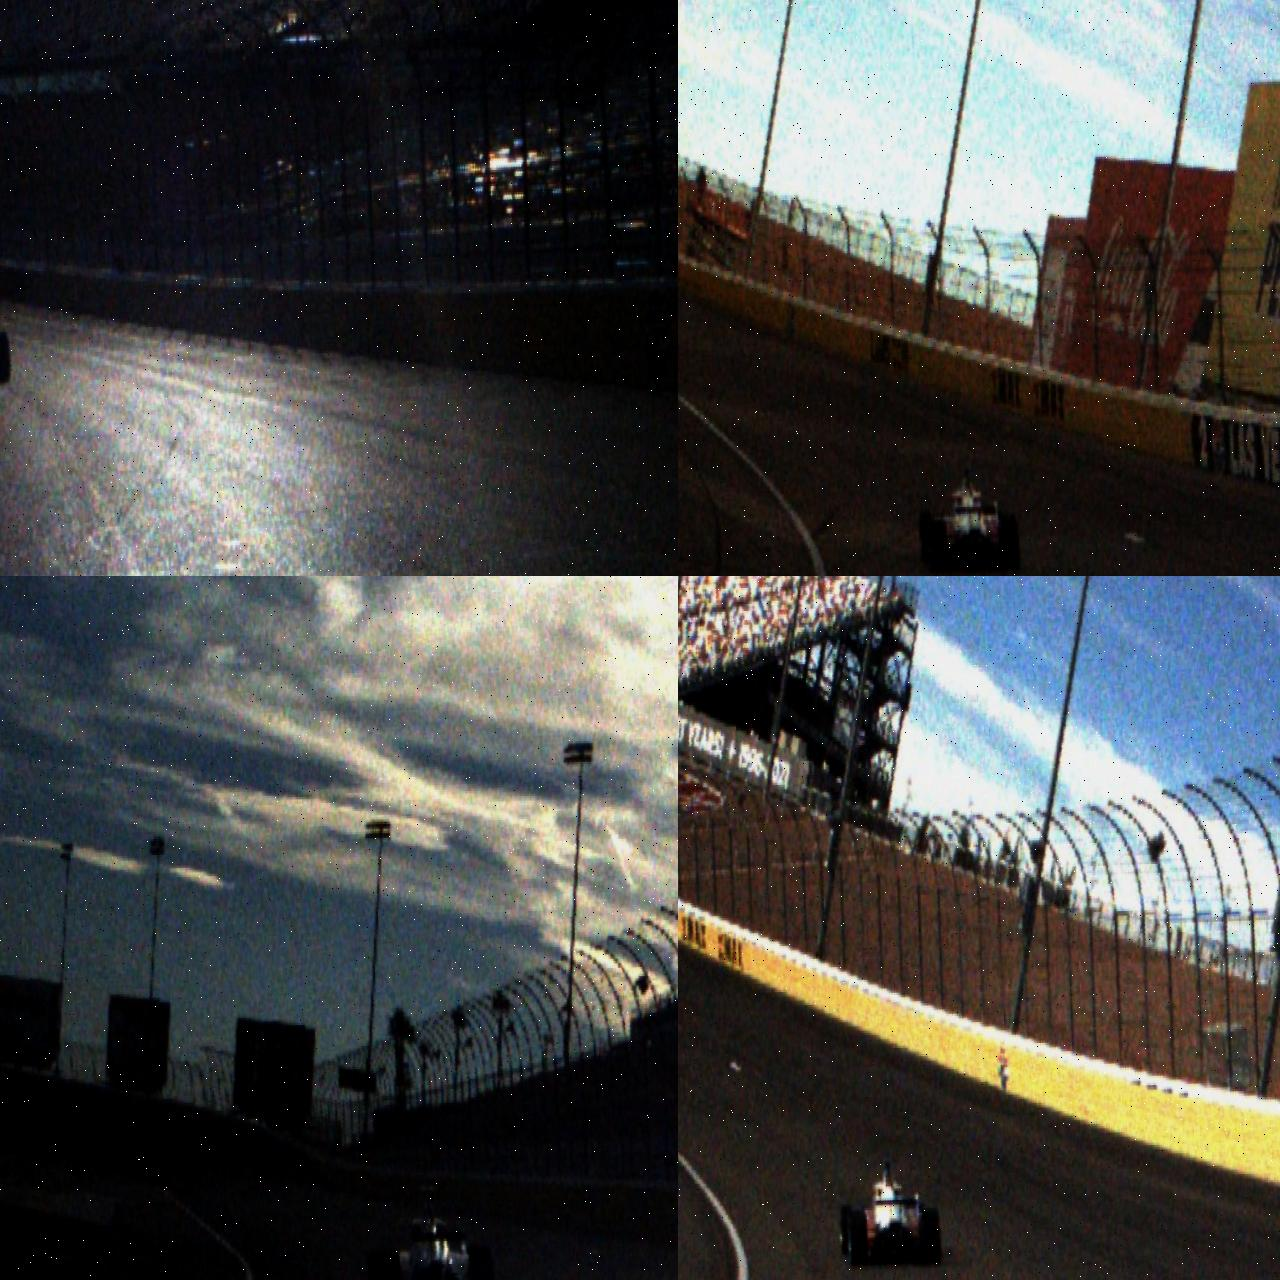AV: (363, 1182, 497, 1280), (837, 1155, 942, 1269), (915, 463, 1021, 574)
Wheel: (847, 1210, 869, 1268), (922, 1206, 942, 1266), (1000, 513, 1021, 568), (928, 520, 947, 574), (470, 1242, 497, 1280), (918, 510, 934, 563), (838, 1203, 855, 1255), (374, 1250, 401, 1280), (0, 331, 11, 383)
